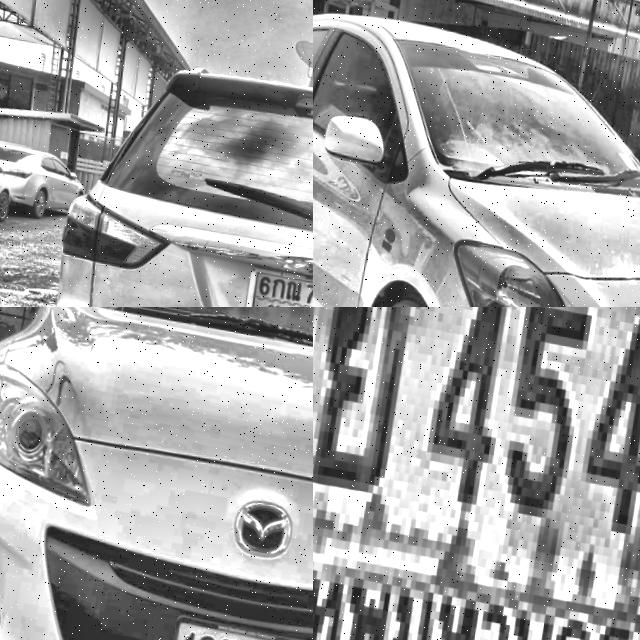license-plate: (313, 307, 640, 640), (170, 604, 313, 640), (241, 248, 313, 307)
